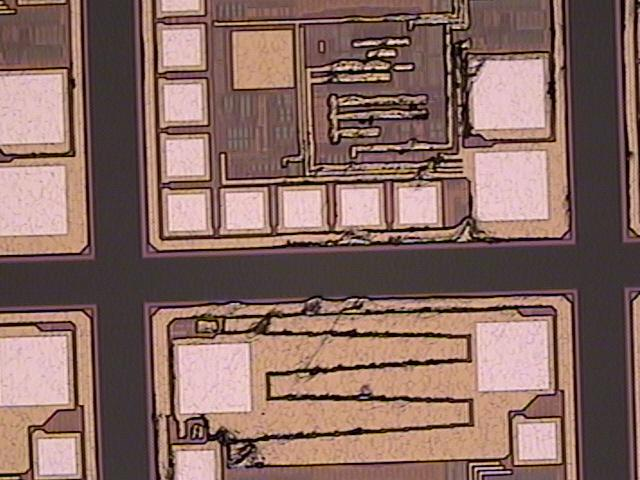SCRATCH: (153, 1, 640, 480)
